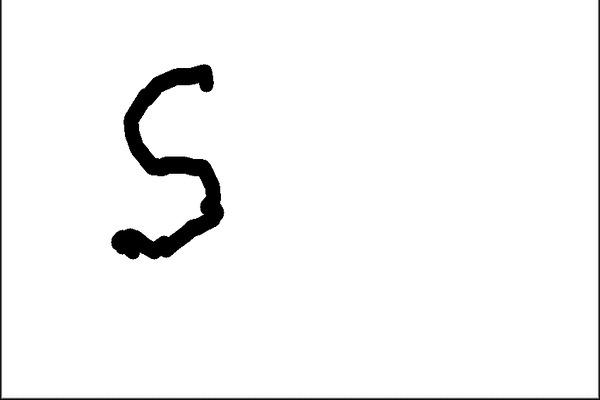S: (105, 61, 227, 263)
